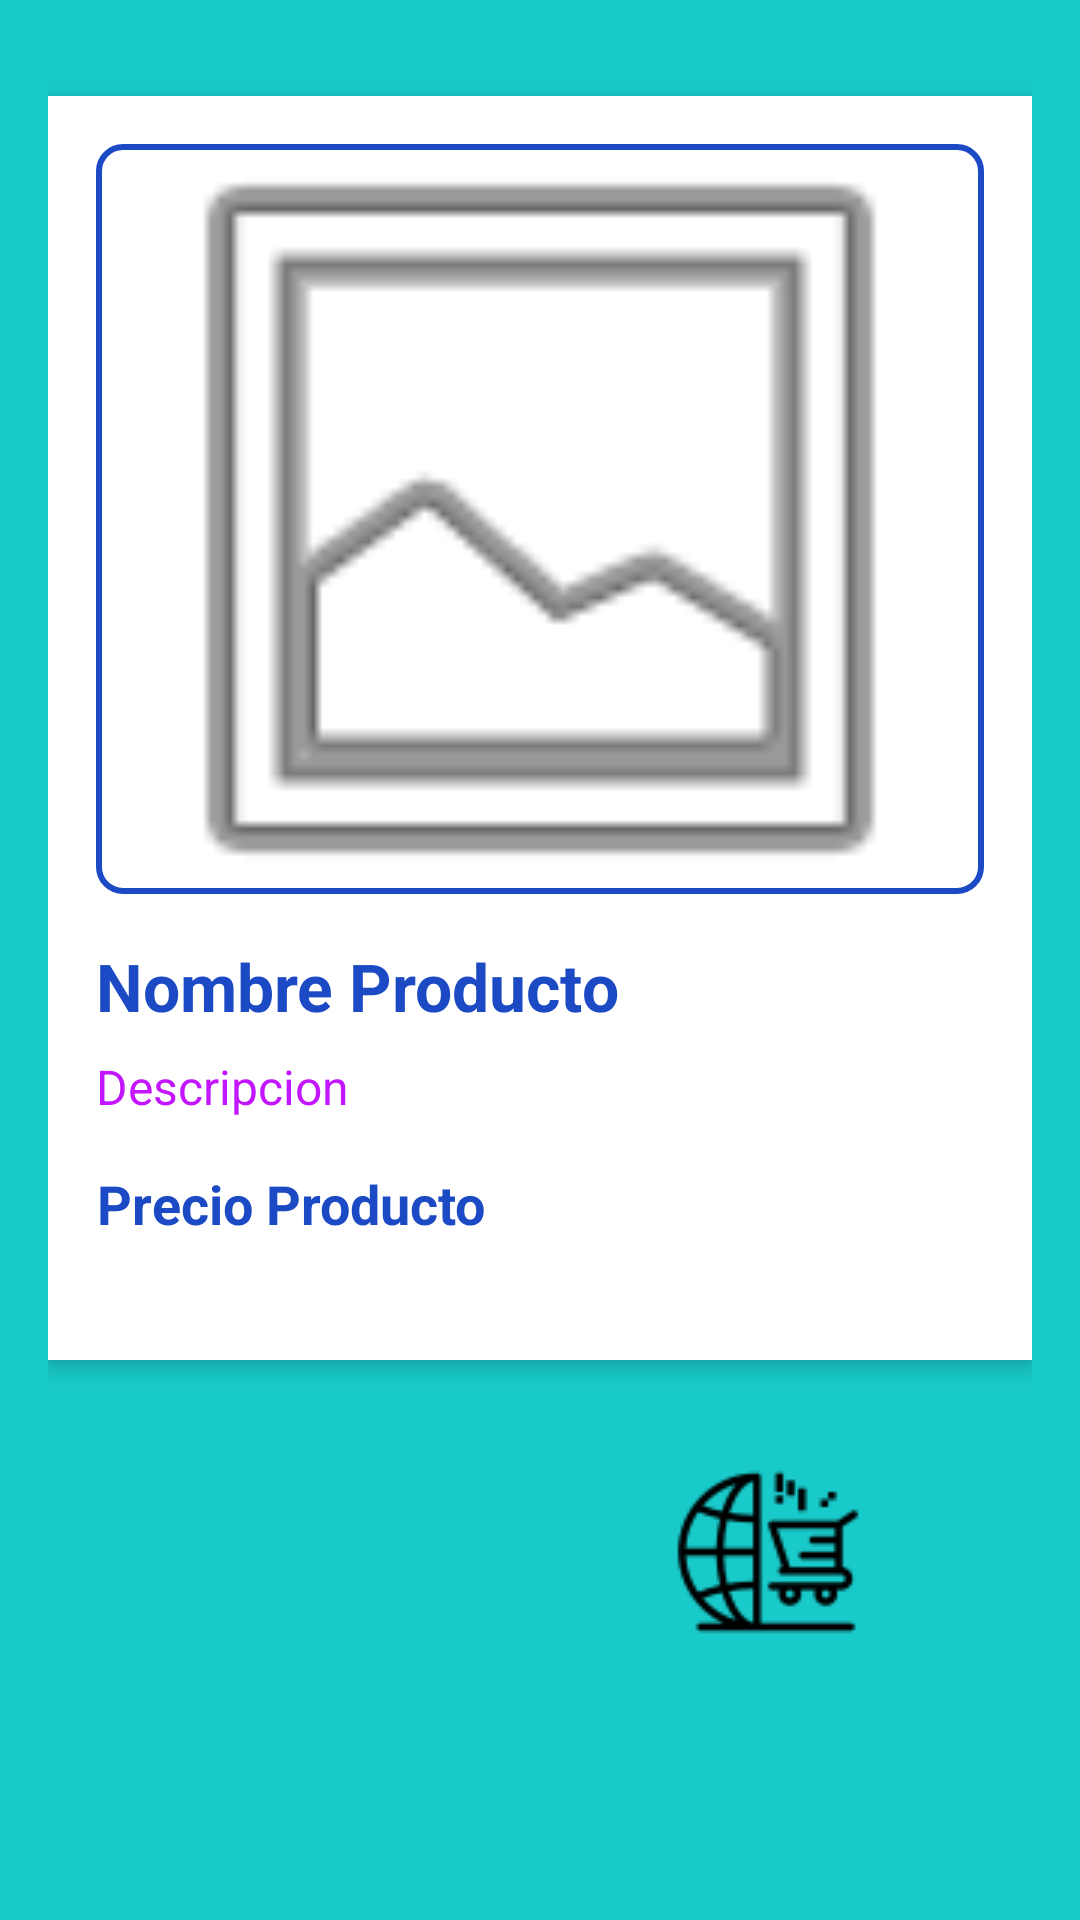

Where icons sit on this 1080 x 1920 app screen, as (x1, y1, x2, y2):
carrito go: (677, 1471, 859, 1633)
